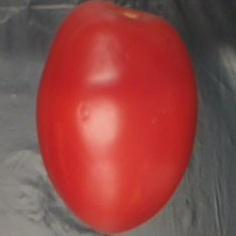unripe: (33, 1, 204, 236)
